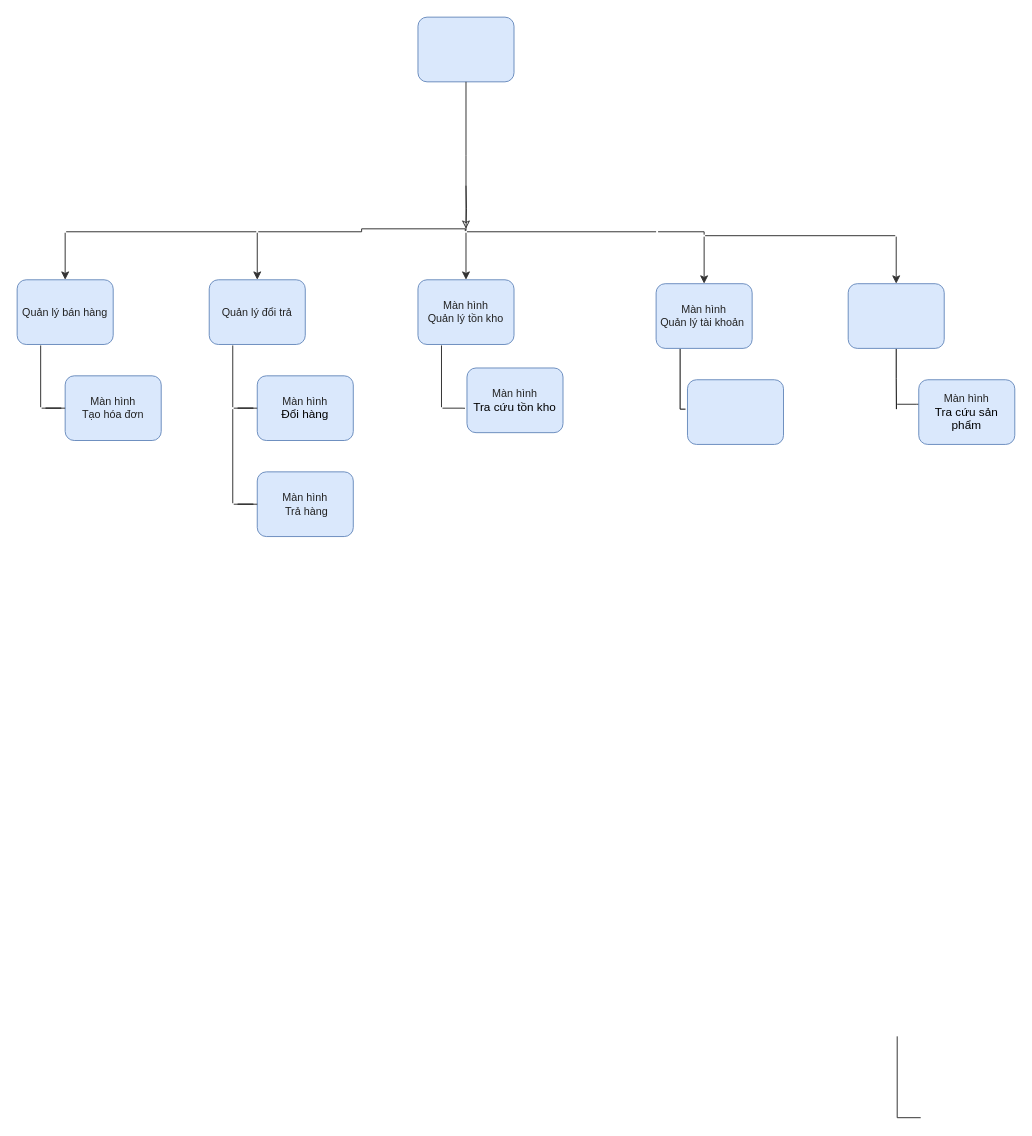
This 1032x1136 diagram has some shape labels left out. Here are the shapes that lost their labels. From the top down, the centre of each, then its label:
At (465,49): "Màn hình Đăng nhập".
At (895,315): "Màn hình Quản lý danh mục sản phẩm và giá".
At (735,411): "Màn hình Đặt lại mật khẩu".
